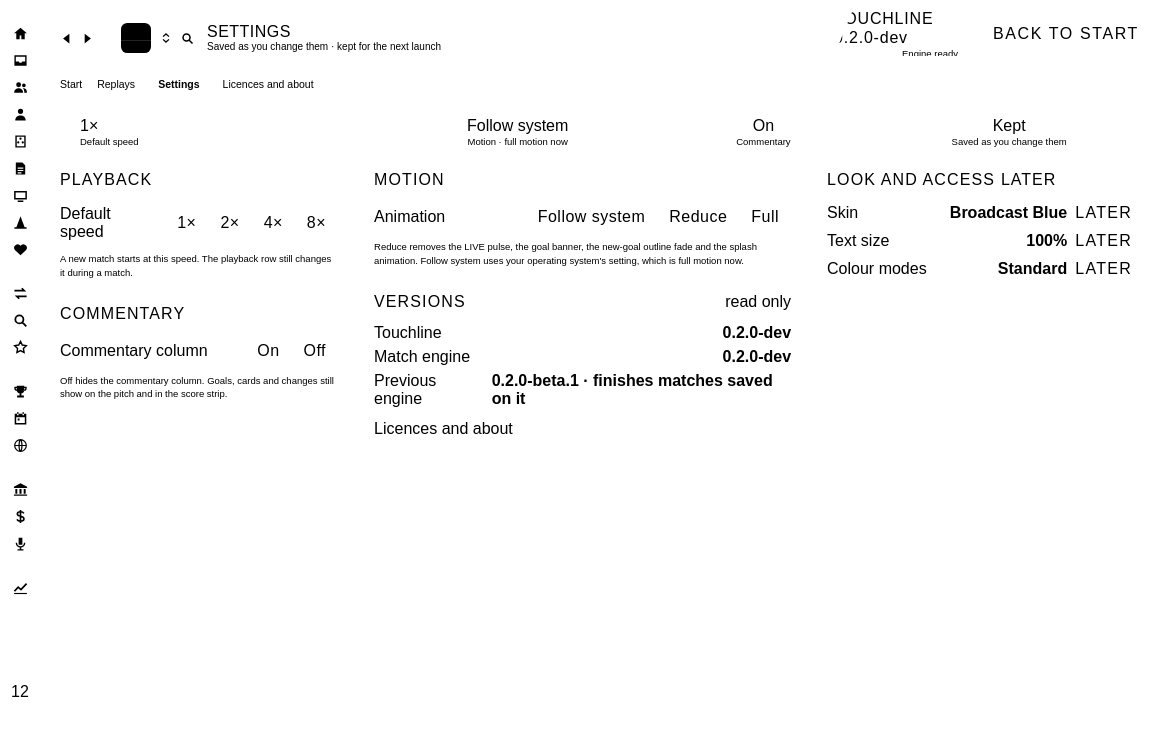
Test case: settings show the three values pressed and save a change at once
The width and height of the screenshot is (1164, 732).
Click the button "4×": (273, 223) x1=252 y1=211 x2=295 y2=235
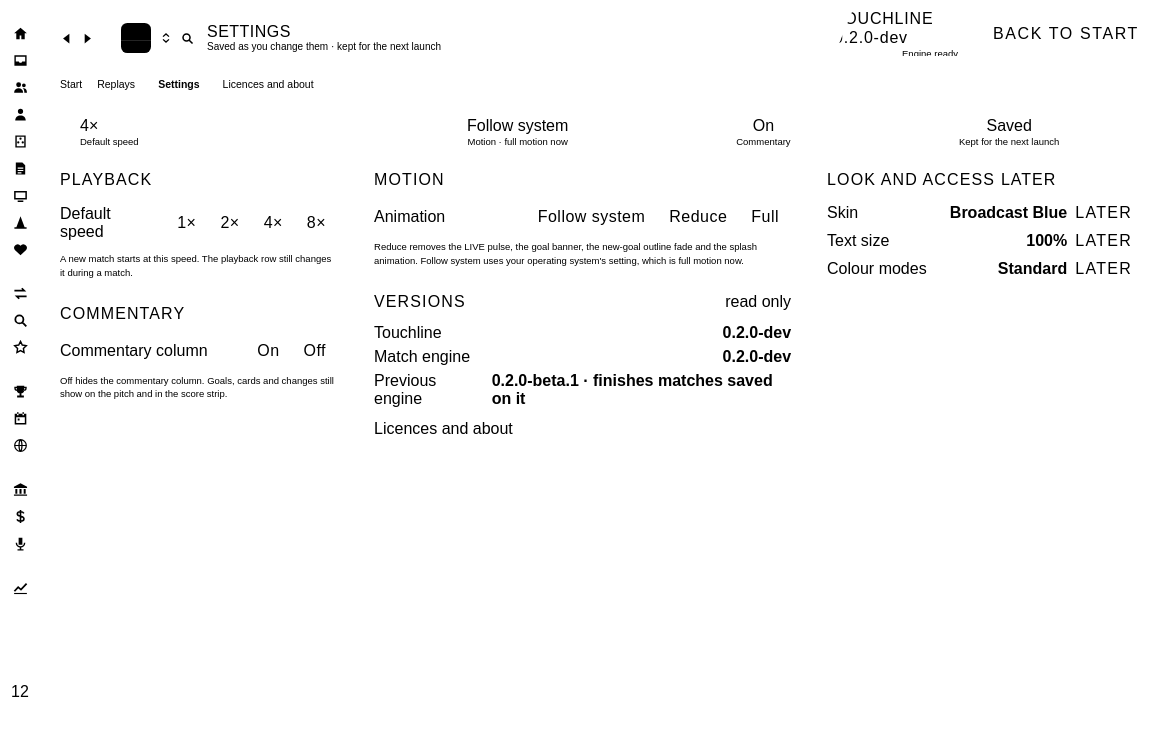
Expected: the element that starts with "Skin" is shown, x1=827 y1=199 x2=1132 y2=283
Now the text "Saved" is shown, box x1=986 y1=117 x2=1032 y2=134
